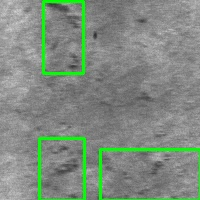rolled-in_scale: (100, 149, 200, 200), (43, 1, 83, 73), (39, 138, 84, 200)
